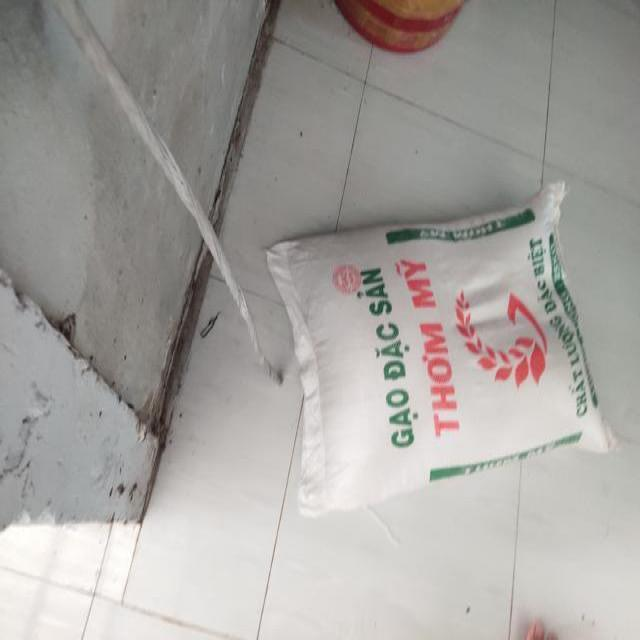gunny_bag: (267, 183, 615, 517)
